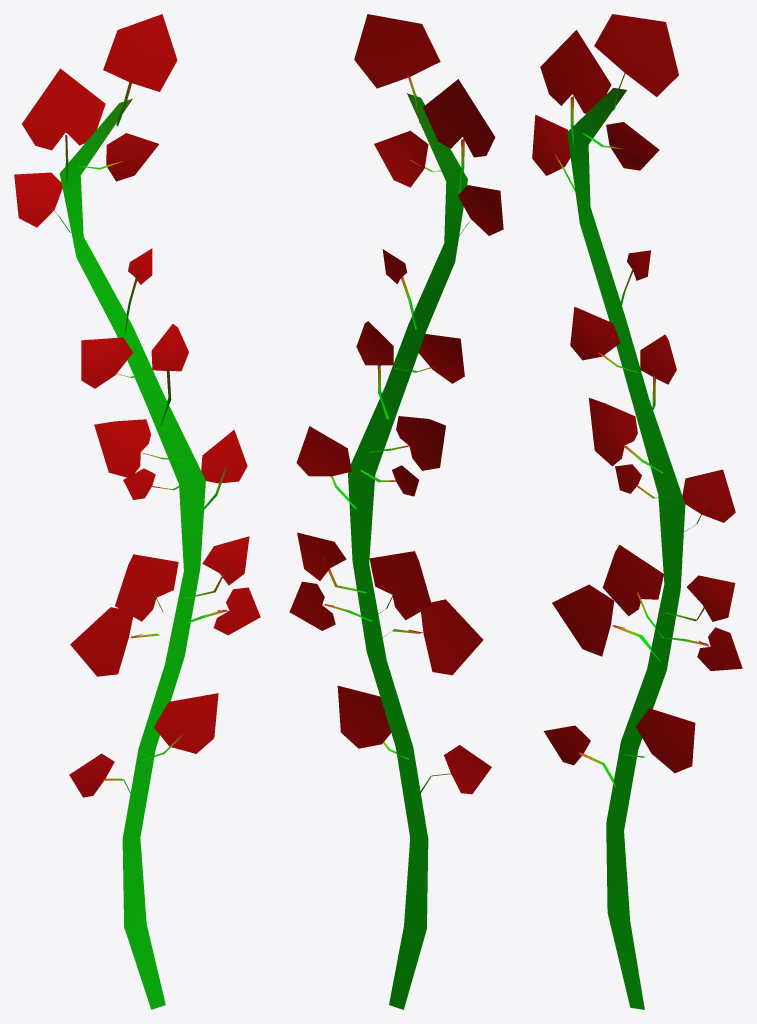
Rendered from Var11_LOD3.fbx.
3 renders of one model, left to right at view 1: azimuth 30°, elevation 25°; view 2: azimuth 150°, elevation 25°; view 3: azimuth 330°, elevation 25°, orthographic.
Visible parts, largest first — view 1: _hlsi_Var11_LOD3; view 2: _hlsi_Var11_LOD3; view 3: _hlsi_Var11_LOD3.
Part boxes in pixels (x1=…): _hlsi_Var11_LOD3: x1=14, y1=14, x2=260, y2=1009; _hlsi_Var11_LOD3: x1=289, y1=14, x2=503, y2=1009; _hlsi_Var11_LOD3: x1=532, y1=14, x2=742, y2=1009.
Size of the model in its own units: 17.78 by 73.47 by 3.22.
